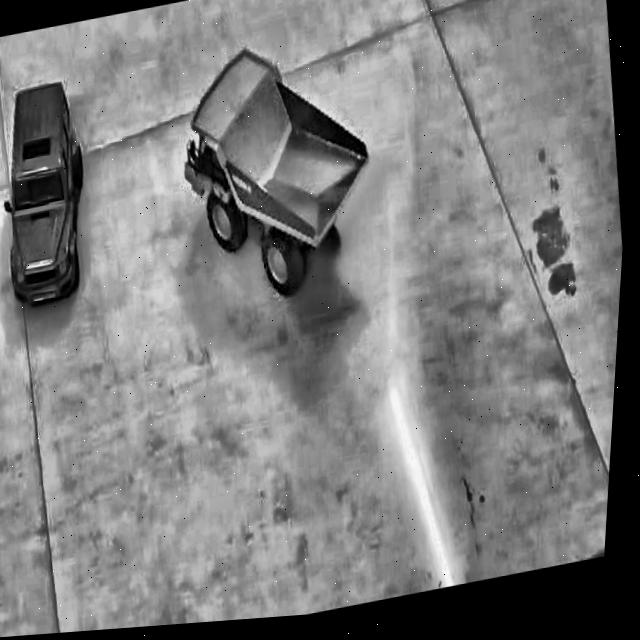dump_truck: (151, 20, 390, 315)
light_vehicle: (0, 63, 105, 319)
